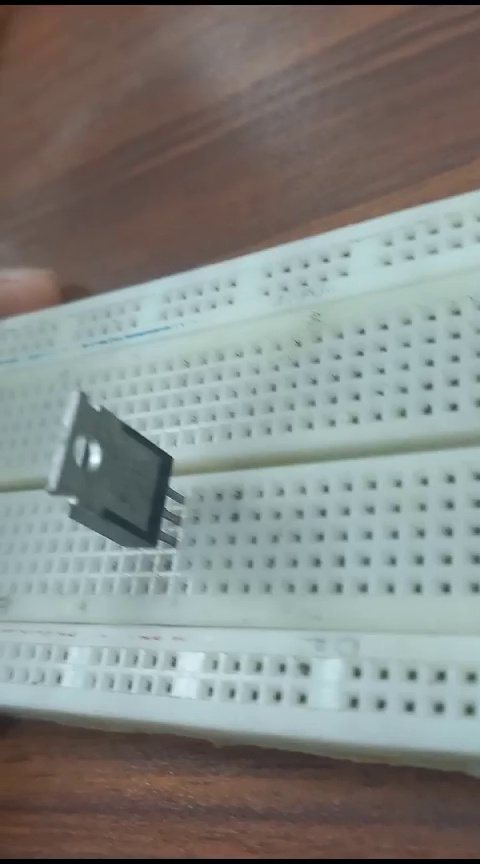voltage regulator: (45, 383, 181, 568)
